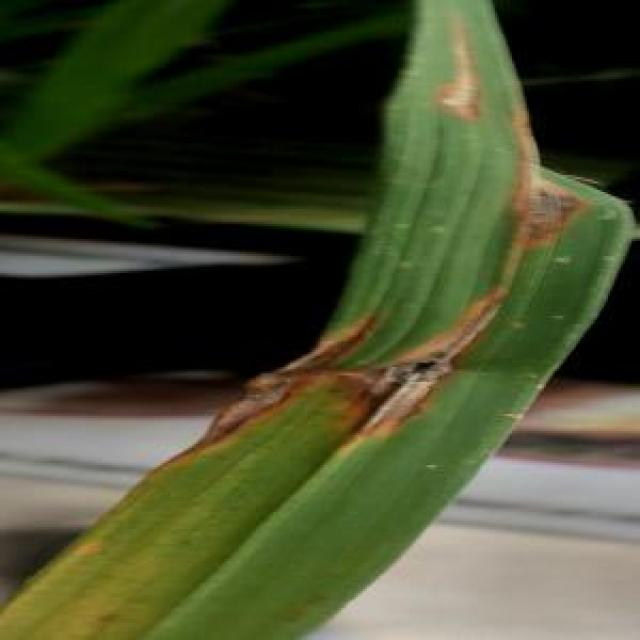Leaf_Blast: (320, 273, 516, 437), (169, 284, 386, 431), (504, 90, 602, 252), (424, 0, 502, 113)
